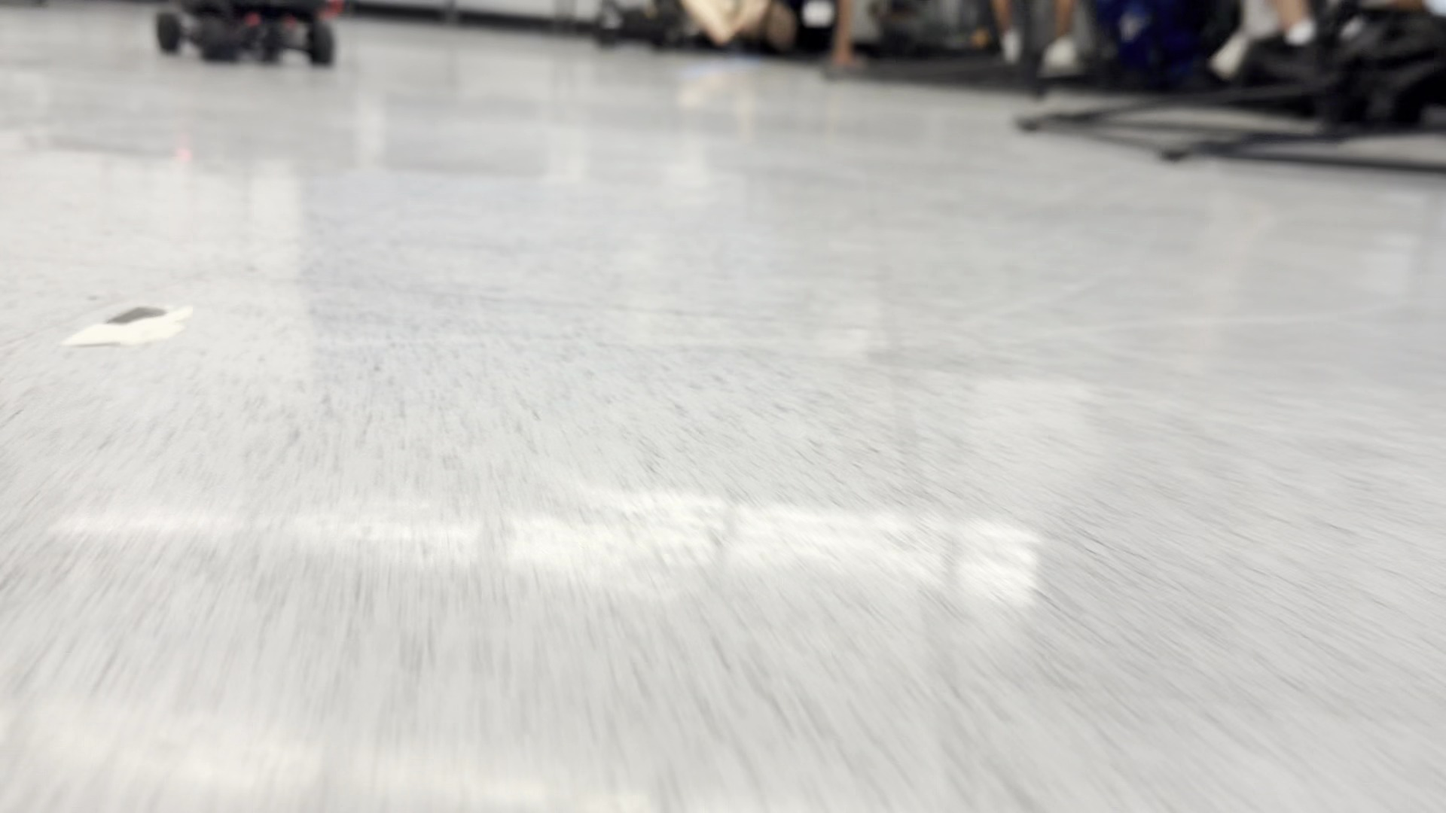racecar: (160, 0, 339, 71)
